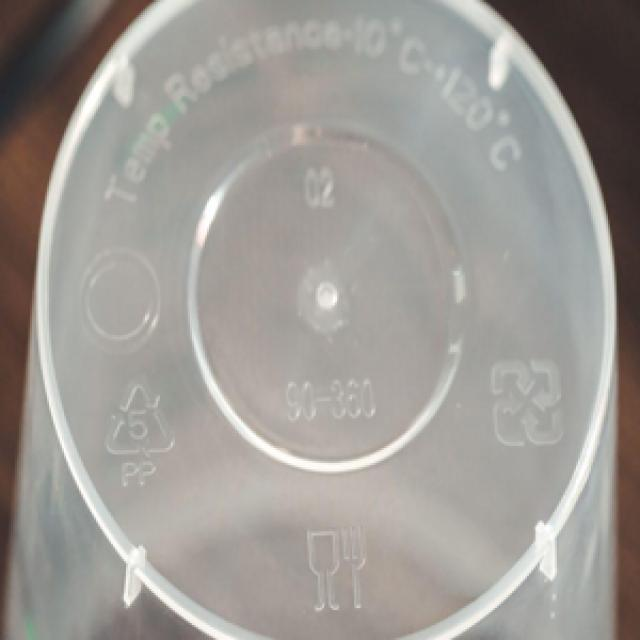plastic cup: (11, 2, 627, 640)
